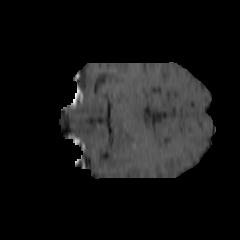glioma: (98, 111, 165, 166)
